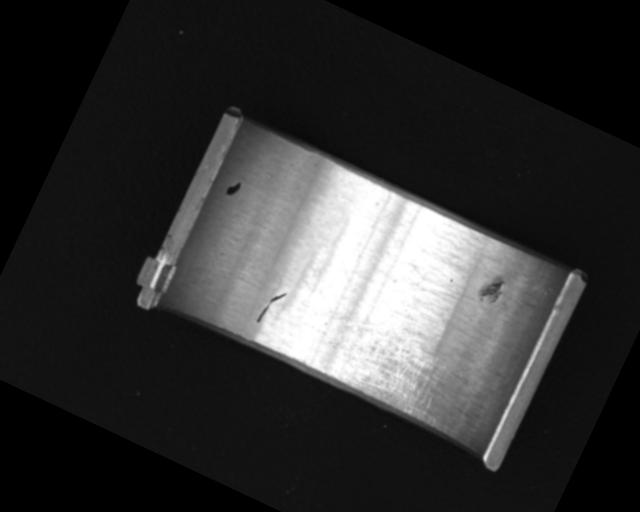blot: (223, 177, 243, 200)
bruise: (474, 271, 508, 309)
nick: (254, 286, 286, 329)
scratch: (309, 300, 465, 426)
